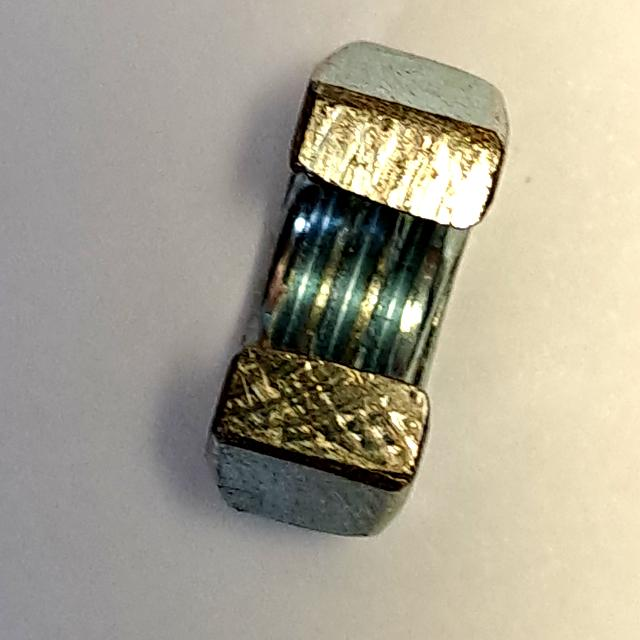Side-Fracture: (188, 34, 521, 554)
